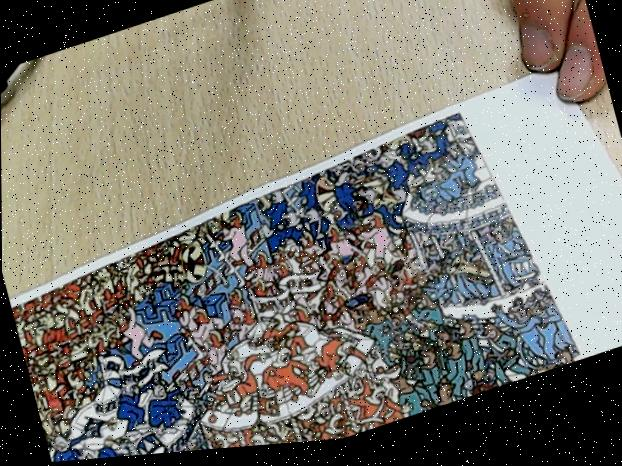waldo: (403, 259, 429, 286)
